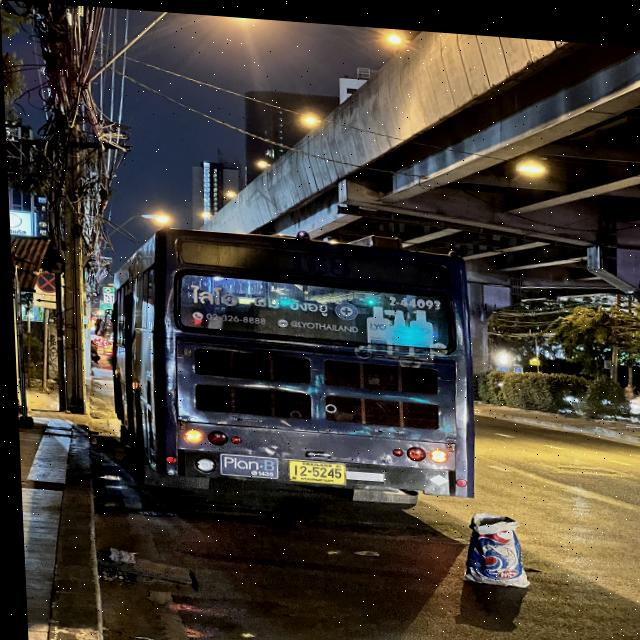BMTA-bus: (108, 228, 480, 510)
Bus Line Number: (284, 244, 354, 276)
Bus Side Number: (380, 287, 442, 305)
